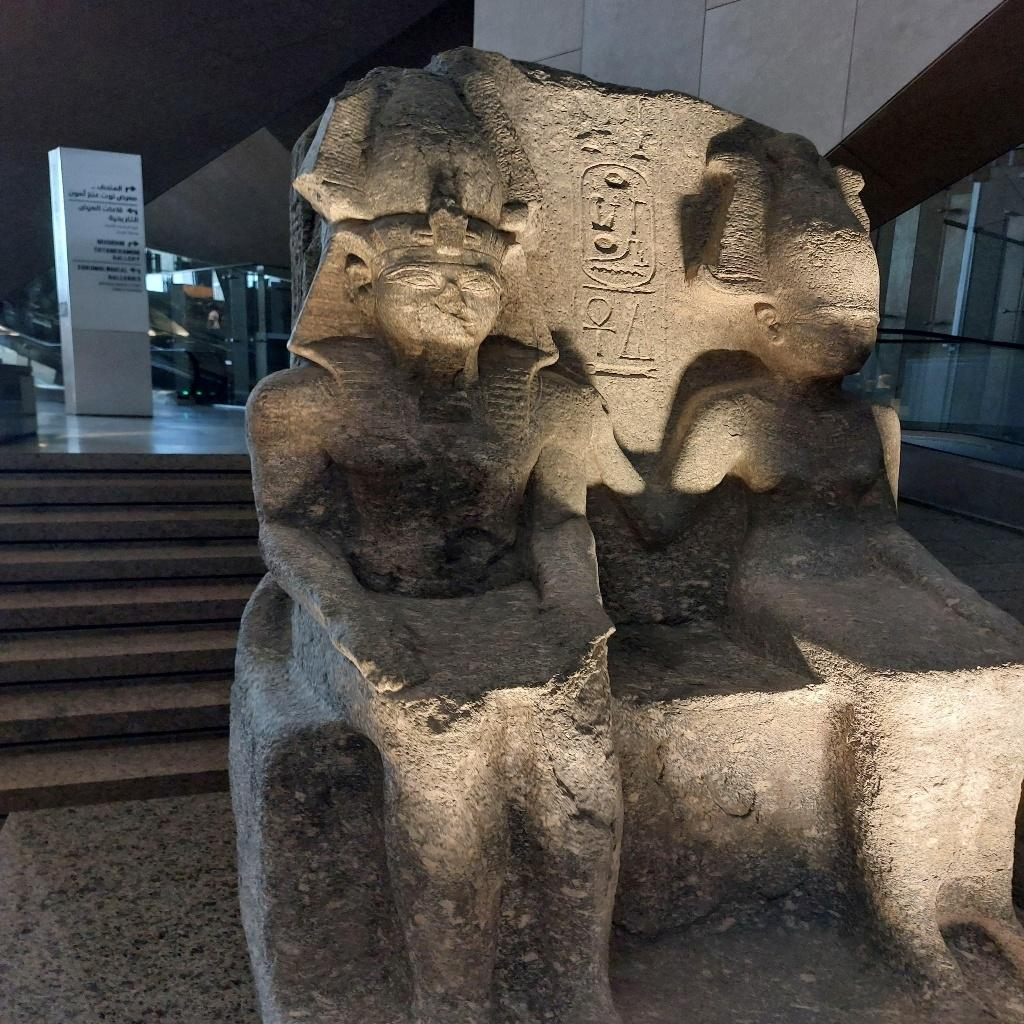Statue of King Ramesses ll - Goddess Anath: (254, 51, 1024, 819)
